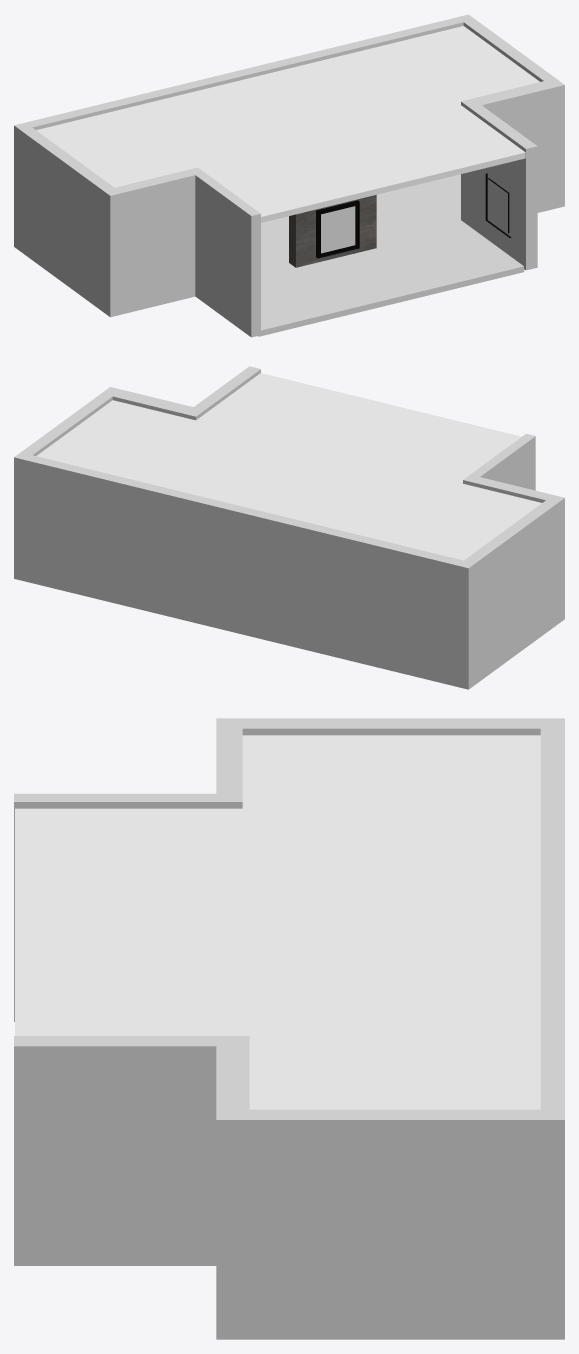
Rendered from gallery.glb.
3 renders of one model, top to bottom at view 1: azimuth 30°, elevation 25°; view 2: azimuth 150°, elevation 25°; view 3: azimuth 270°, elevation 25°, orthographic. The views are drawn at different scales.
Visible parts, largest first — view 1: Gallery3Roof, Surroundingwall, Gallery3Floor, InsideWall, Frame1, Slot1, Slot4, Frame1.004; view 2: Surroundingwall, Gallery3Roof; view 3: Gallery3Roof, Surroundingwall.
Part boxes in pixels (box(x1,y1,x2,y2)): Gallery3Roof: box(36, 26, 539, 222); Surroundingwall: box(14, 14, 564, 337); Gallery3Floor: box(258, 174, 524, 336); InsideWall: box(289, 195, 376, 267); Frame1: box(316, 200, 359, 258); Slot1: box(323, 210, 353, 248); Slot4: box(490, 182, 507, 225); Frame1.004: box(485, 173, 511, 237); Surroundingwall: box(14, 366, 564, 689); Gallery3Roof: box(36, 373, 541, 560); Gallery3Roof: box(15, 735, 540, 1109); Surroundingwall: box(14, 718, 564, 1339).
Size of the model in its own units: 302 by 79.1 by 175.
6 materials, 1 textured.
